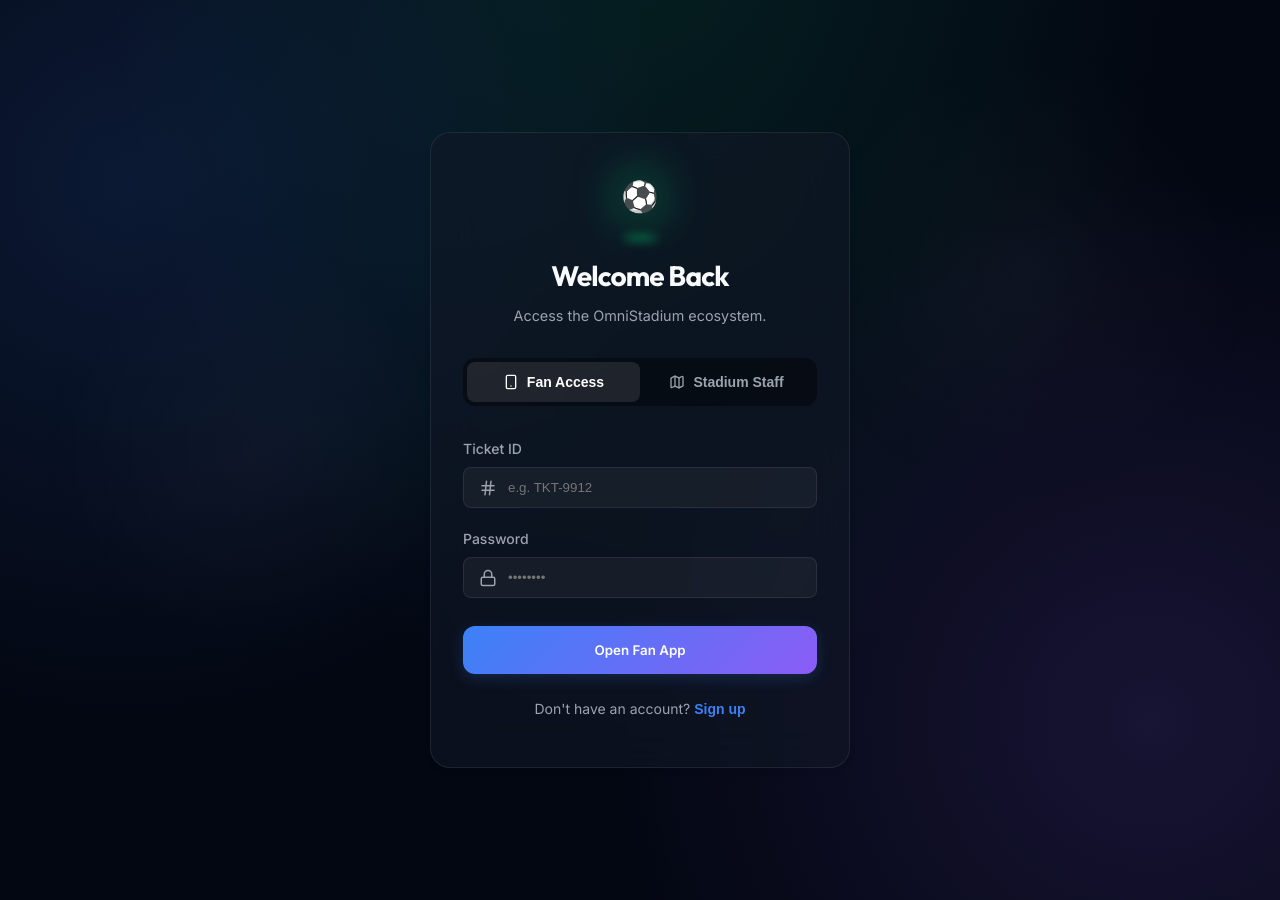
Test: Login Component › toggles to signup mode
What coordinates should you click on to do the following:
click the button "Sign up"
I would click on:
 (720, 709)
Its box is [694, 701, 746, 717].
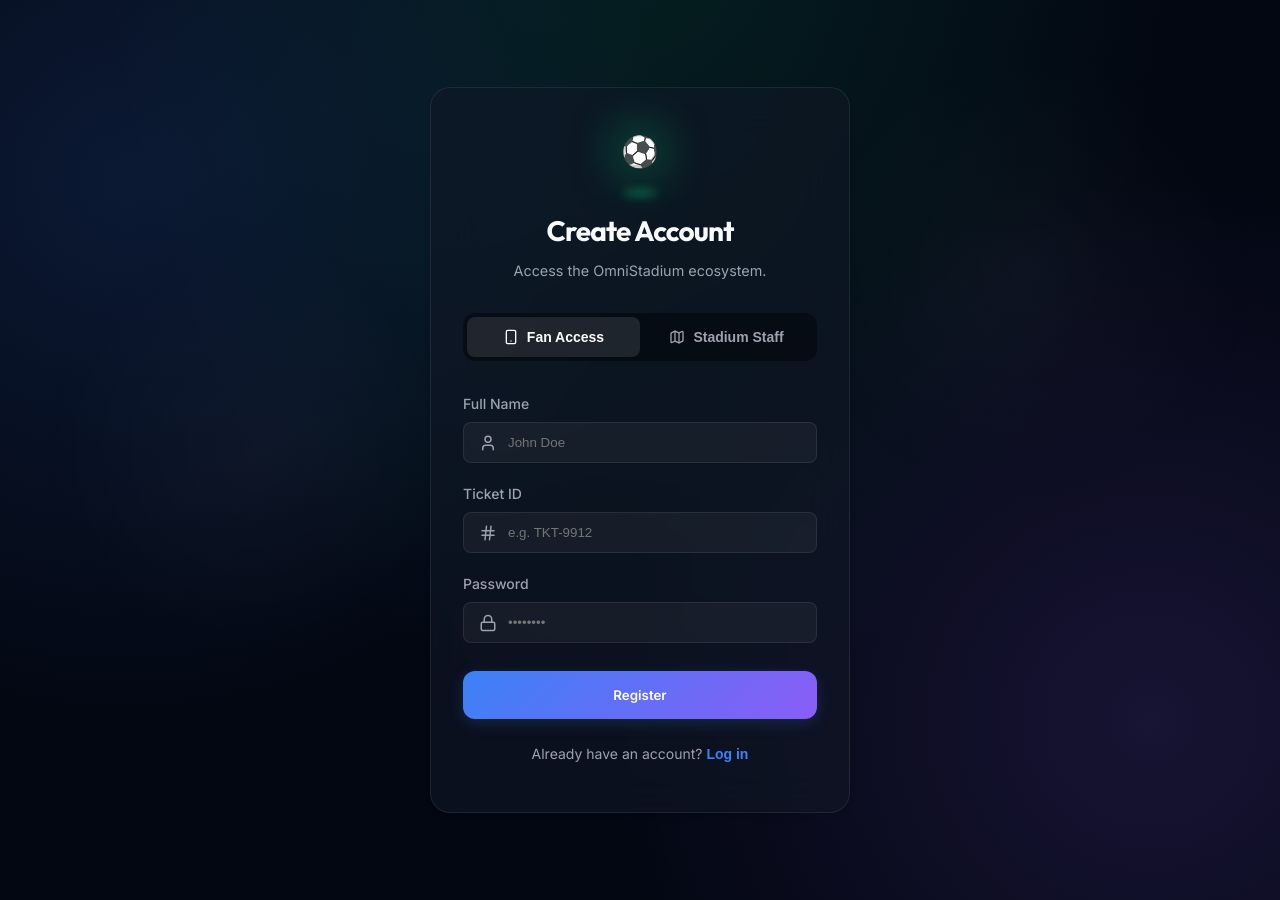
Expected: the heading "Create Account" is shown, [546, 210, 733, 252]
Expected: the field with placeholder "John Doe" is shown, [463, 422, 817, 463]
